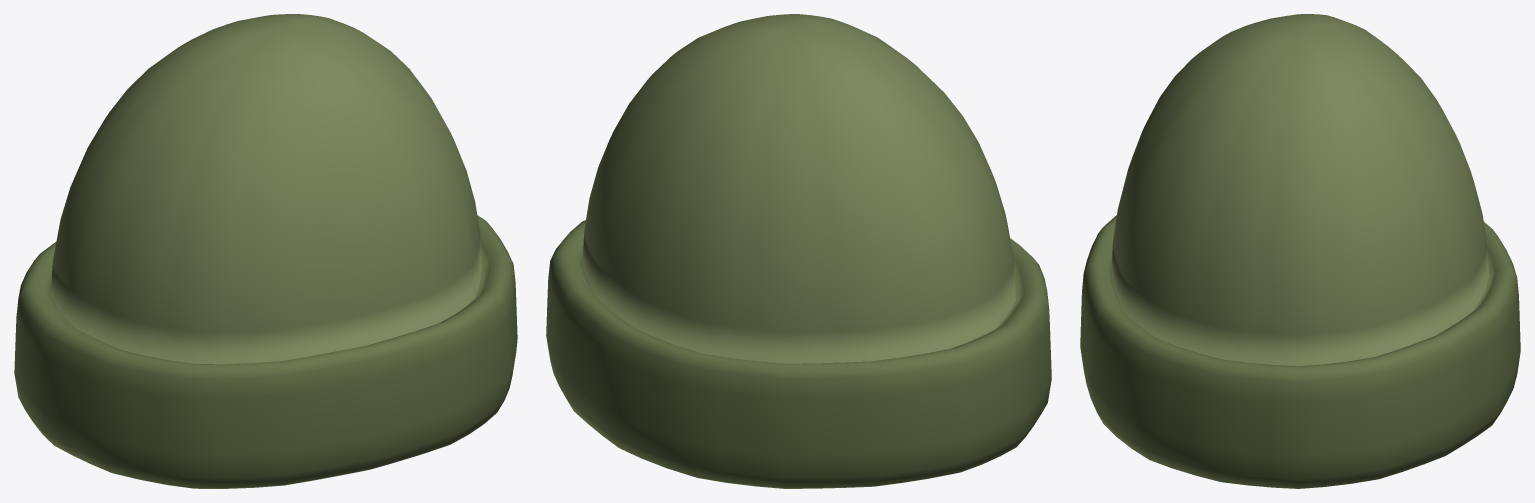
3 renders of one model, left to right at view 1: azimuth 30°, elevation 25°; view 2: azimuth 150°, elevation 25°; view 3: azimuth 270°, elevation 25°, orthographic. The views are drawn at different scales.
Visible parts, largest first — view 1: Complete hollow cuffed beanie; view 2: Complete hollow cuffed beanie; view 3: Complete hollow cuffed beanie.
Part boxes in pixels (bbox=[...]): Complete hollow cuffed beanie: bbox=[14, 14, 517, 488]; Complete hollow cuffed beanie: bbox=[546, 14, 1051, 488]; Complete hollow cuffed beanie: bbox=[1080, 14, 1520, 488].
Bounding box in the file's own units: 0.2533 × 0.1992 × 0.2178.
